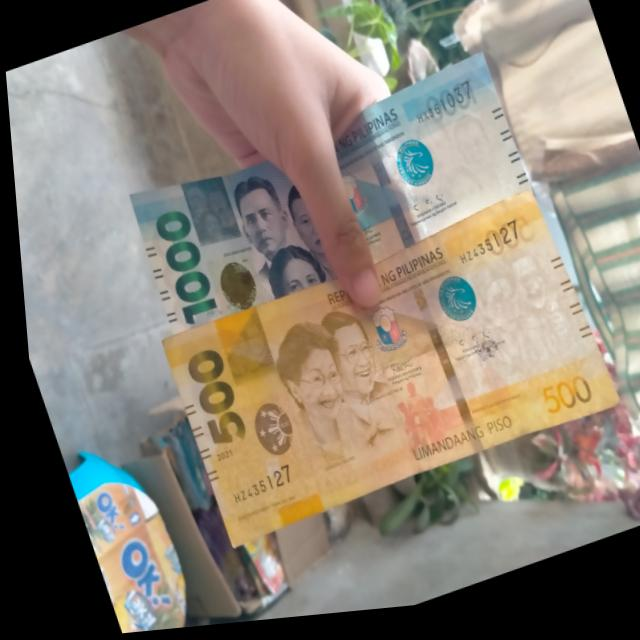concealed_value: (206, 308, 272, 393), (176, 173, 238, 255)
optically_variable_device: (235, 392, 297, 472), (201, 248, 263, 321)
security_thread: (390, 253, 475, 461), (349, 115, 411, 254)
see_through_mark: (502, 358, 577, 405)
serial_number: (215, 459, 294, 513), (445, 224, 519, 274), (404, 87, 476, 135)
value: (142, 201, 215, 330), (171, 342, 244, 456)
value_watermark: (537, 305, 563, 350), (487, 168, 513, 212)
watermark: (462, 243, 568, 386), (408, 104, 505, 232)
